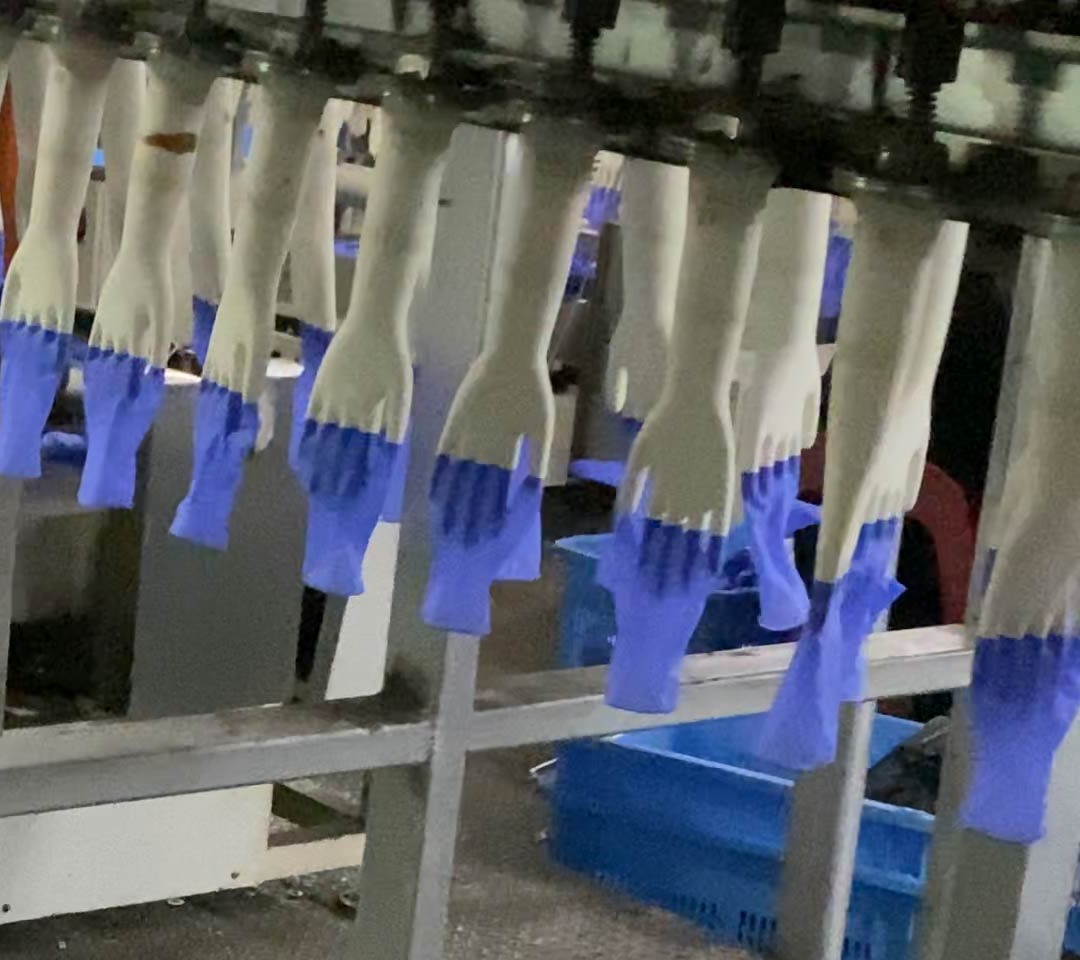glove: (959, 630, 1080, 851), (596, 514, 721, 710), (416, 455, 537, 638), (293, 418, 393, 602), (733, 456, 819, 632), (172, 377, 256, 548), (76, 347, 157, 509), (774, 581, 844, 765), (836, 523, 906, 702), (1, 315, 72, 488)
